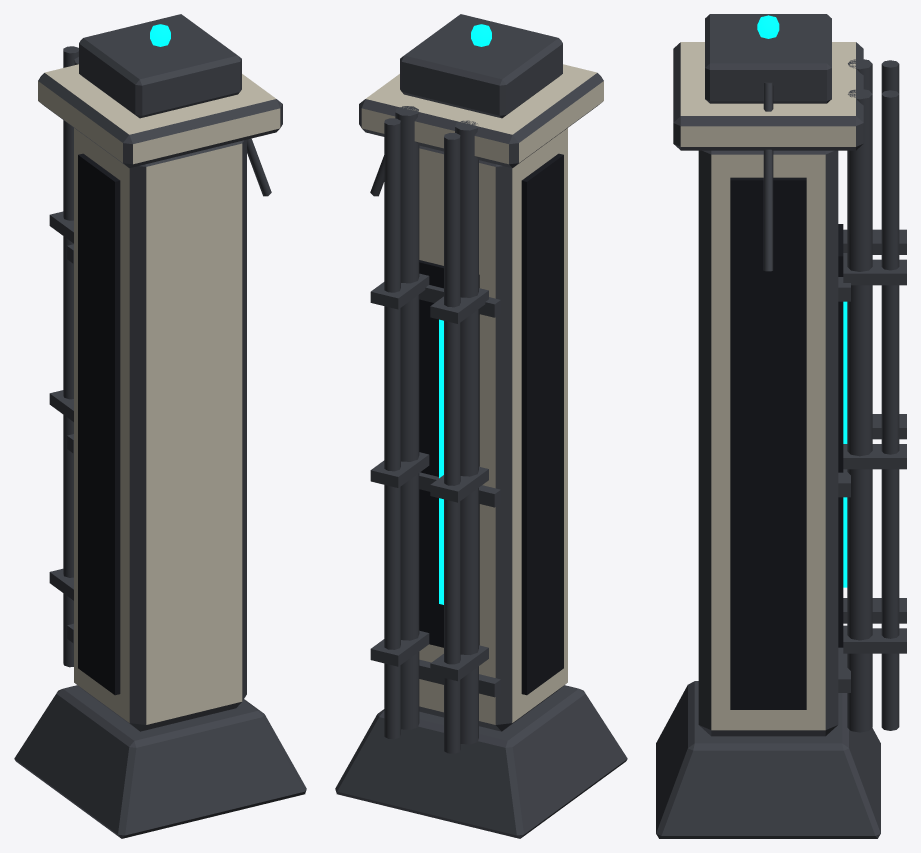
File: conduit_pillar.glb
3 views of the same model, side by side, from view 1: azimuth 30°, elevation 25°; view 2: azimuth 150°, elevation 25°; view 3: azimuth 270°, elevation 25° (orthographic). The views are drawn at different scales.
Parts seen in each view (by area): view 1: conduit_pillar; view 2: conduit_pillar; view 3: conduit_pillar.
Part boxes in pixels (<box>): conduit_pillar: <box>14,14,306,838</box>; conduit_pillar: <box>335,14,627,838</box>; conduit_pillar: <box>656,14,906,838</box>.
Bounding box in the file's own units: 1.92 × 6.75 × 1.98.
